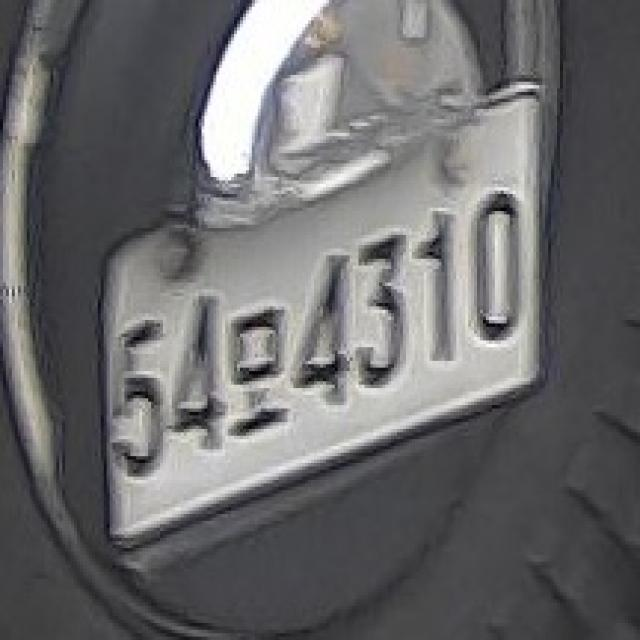0: (462, 170, 536, 368)
1: (412, 205, 471, 382)
3: (350, 214, 414, 419)
4: (294, 232, 358, 426), (166, 276, 228, 460)
5: (101, 286, 175, 480)
license_plate: (95, 58, 554, 572)
mo: (222, 290, 294, 442)
